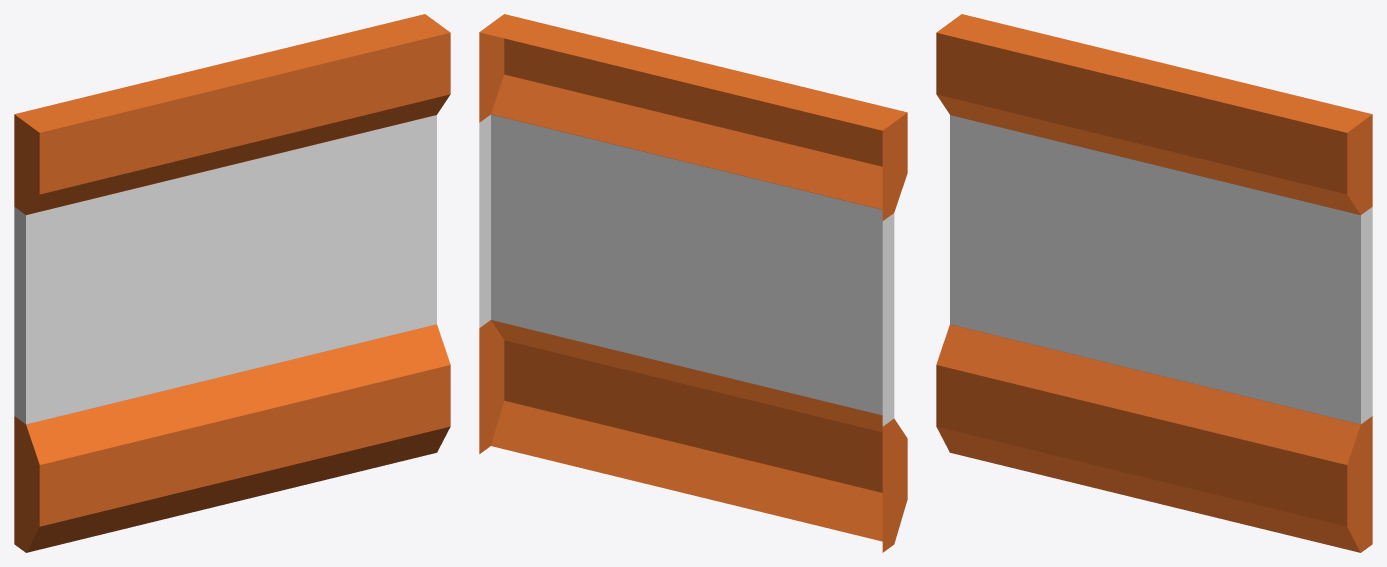
Rendered from wall_basic002.fbx.
3 renders of one model, left to right at view 1: azimuth 30°, elevation 25°; view 2: azimuth 150°, elevation 25°; view 3: azimuth 330°, elevation 25°, orthographic.
Visible parts, largest first — view 1: wall_basic002; view 2: wall_basic002; view 3: wall_basic002.
Part boxes in pixels (x1=…): wall_basic002: x1=14, y1=14, x2=450, y2=552; wall_basic002: x1=479, y1=14, x2=907, y2=552; wall_basic002: x1=936, y1=14, x2=1372, y2=552.
Bounding box in the file's own units: 300 × 300 × 32.27.
1 material, 1 textured.
